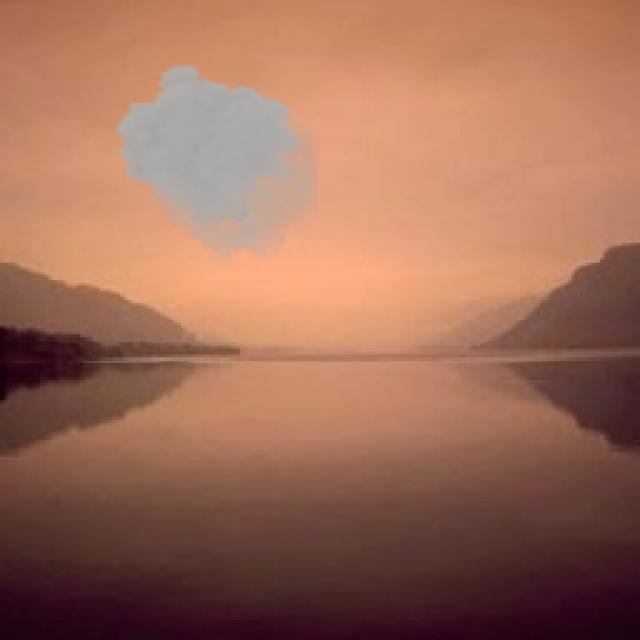smoke: (112, 63, 317, 266)
